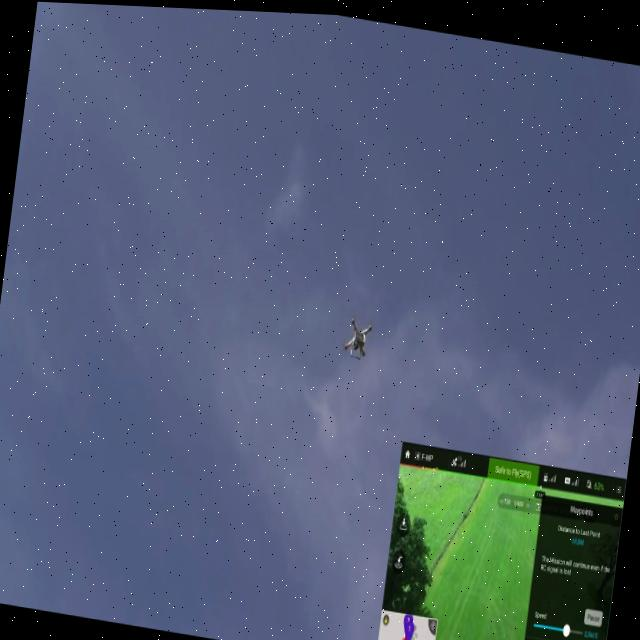drone: (341, 311, 374, 359)
